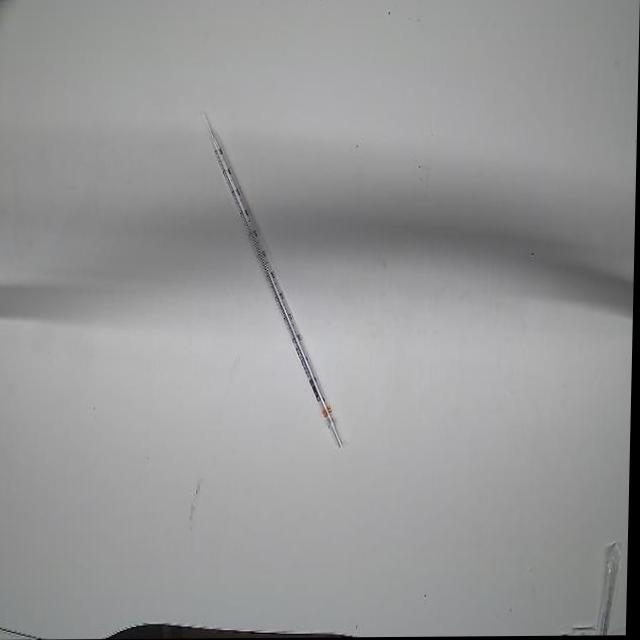Serelogical Pipet 10 mL: (193, 108, 359, 454)
